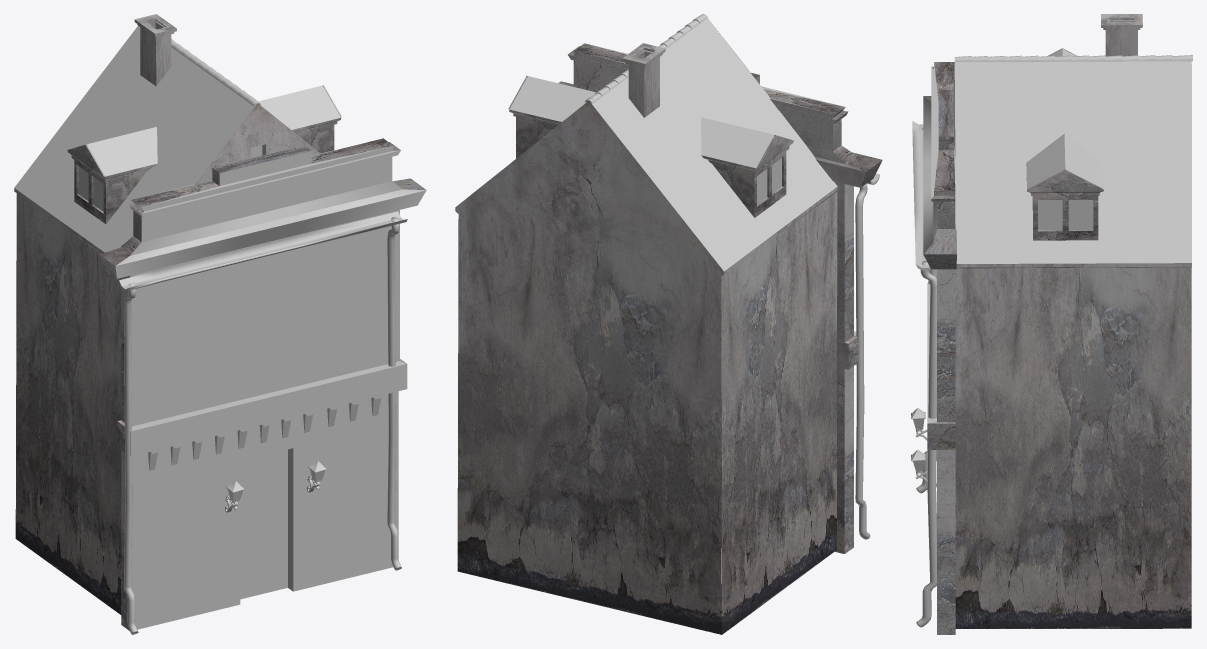
File: ForgottenHouse9.fbx
3 views of the same model, side by side, from view 1: azimuth 30°, elevation 25°; view 2: azimuth 150°, elevation 25°; view 3: azimuth 270°, elevation 25° (orthographic). The views are drawn at different scales.
Visible parts, largest first — view 1: ForgottenHouse10; view 2: ForgottenHouse10; view 3: ForgottenHouse10.
Boxes of the visible parts, left/top/right/bottom form: ForgottenHouse10: left=14, top=14, right=426, bottom=634; ForgottenHouse10: left=455, top=14, right=882, bottom=634; ForgottenHouse10: left=911, top=14, right=1192, bottom=634.
Bounding box in the file's own units: 30.57 × 48.3 × 22.99.
